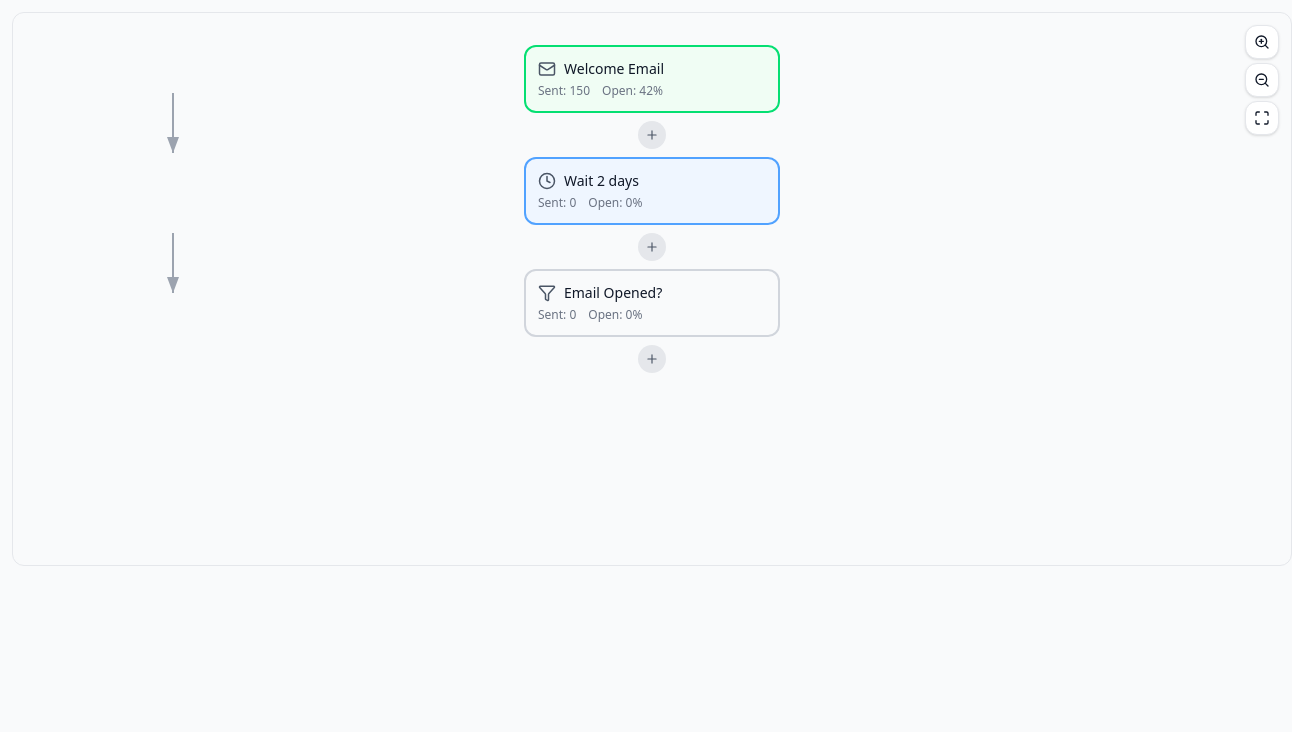
Test case: SequenceBuilder › clicking a node opens the config panel
The image size is (1292, 732).
What coordinates should you click on to do the following:
click the element with test id "sequence-node-step_1"
I would click on:
 (652, 79)
Its box is [524,45,780,113].
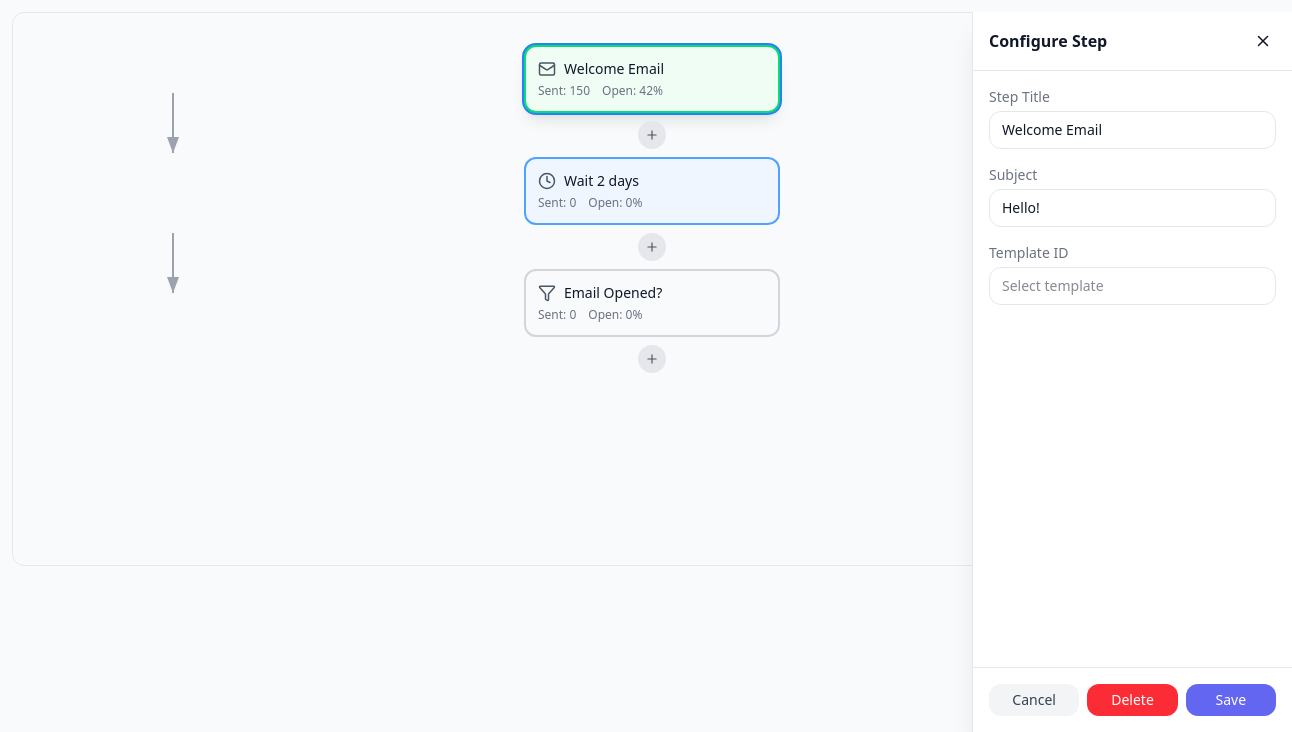
Expected: the element with test id "step-config-panel" is shown, [972,12,1291,731]
Expected: the heading "Configure Step" is shown, [989,29,1107,53]
